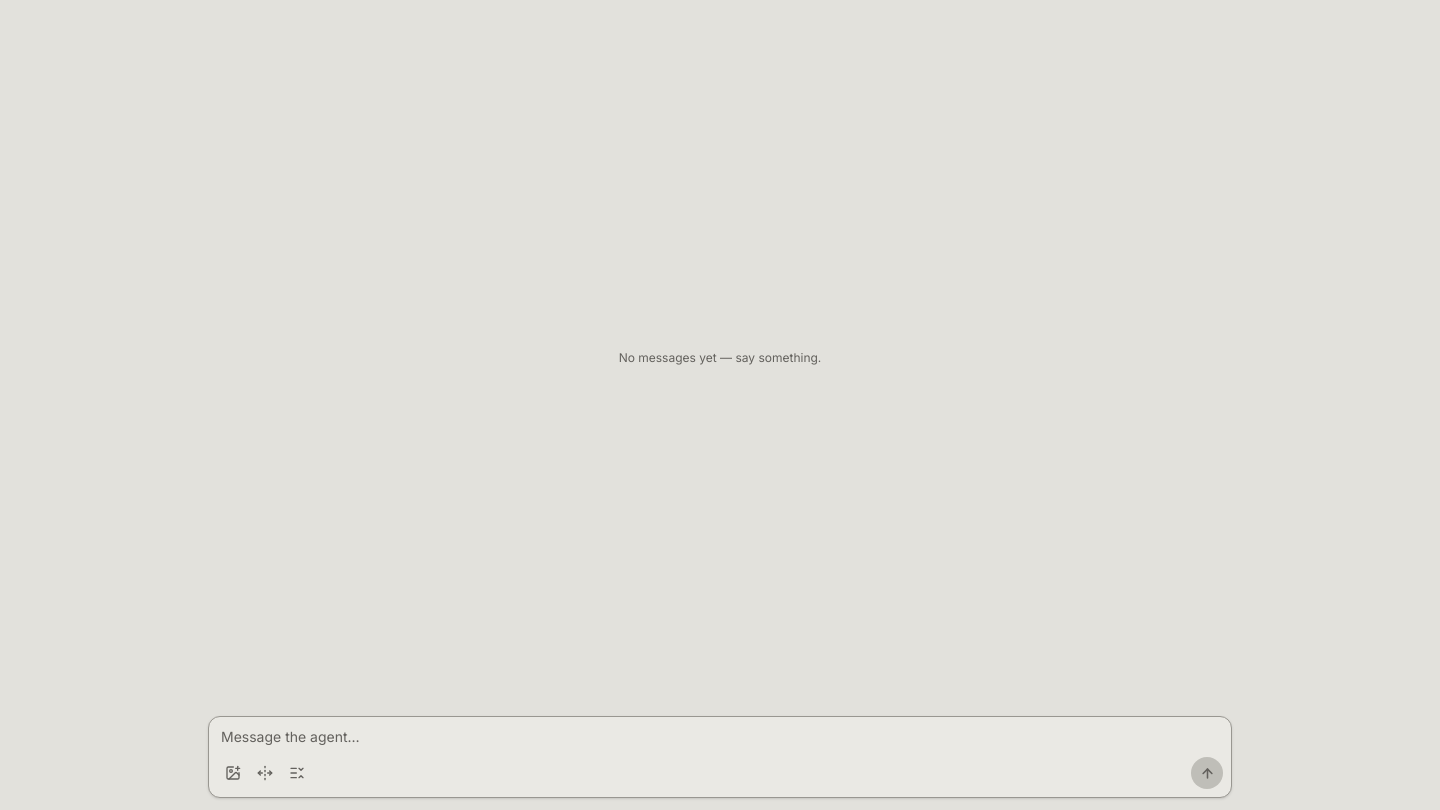
Test: WorkspaceChat composer menu › completes a command that takes an argument instead of sending it, and Tab always completes
Type "/comp" into the text box at point(720, 737), box [209,717,1231,757]
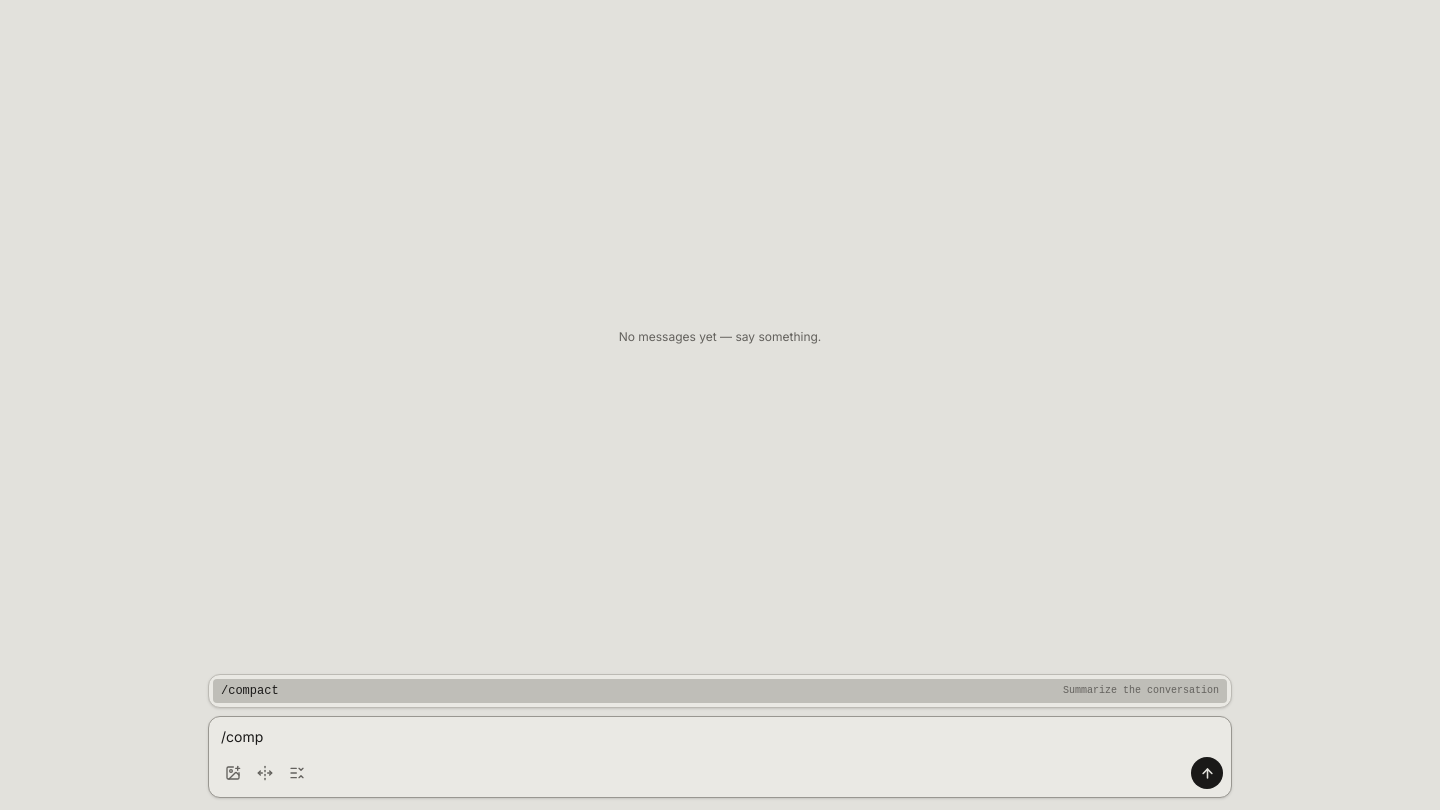
Press Enter in the text box, box [209,717,1231,757]
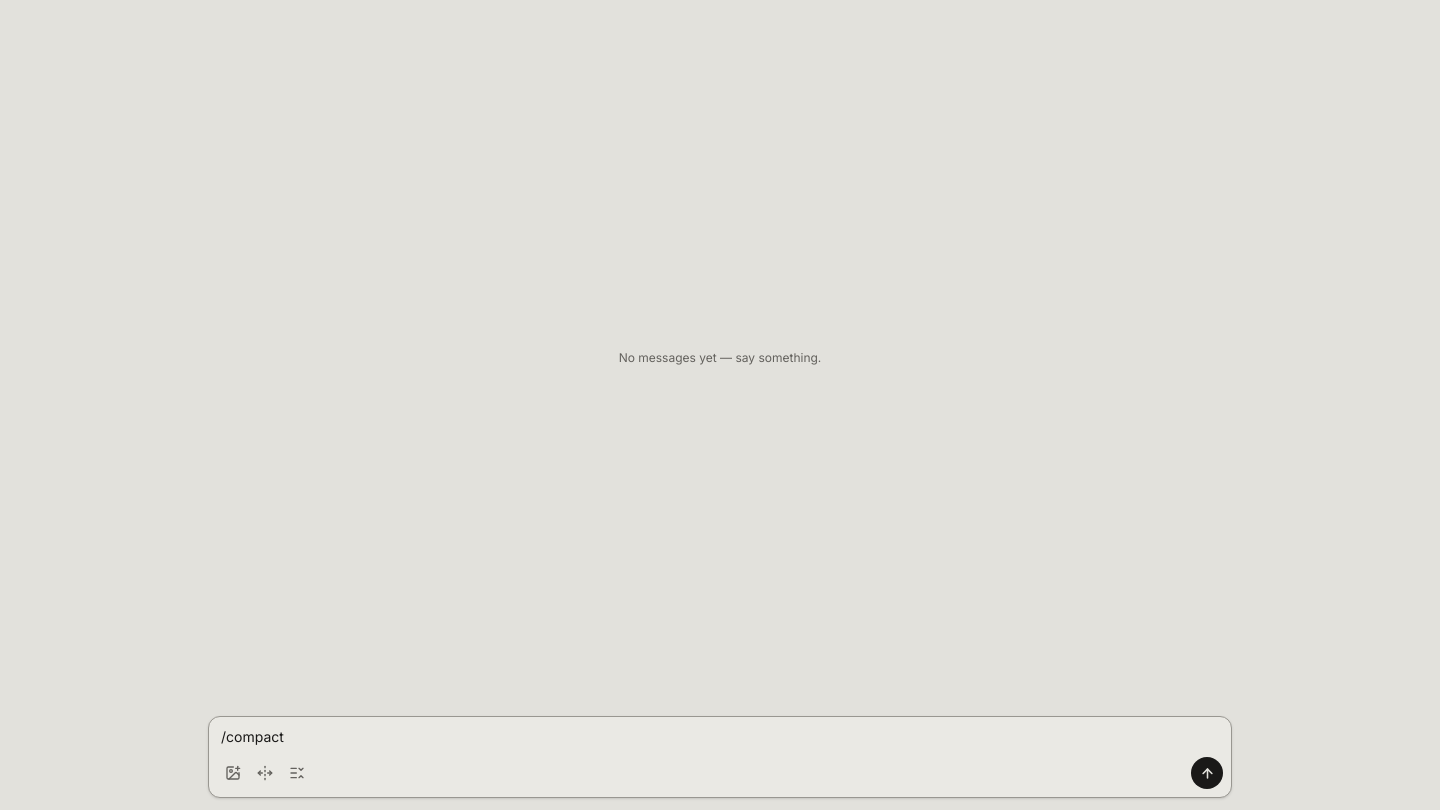
Check: the text box holds "/compact "
Replace the text in the text box with "/cont" at point(720, 737), box [209,717,1231,757]
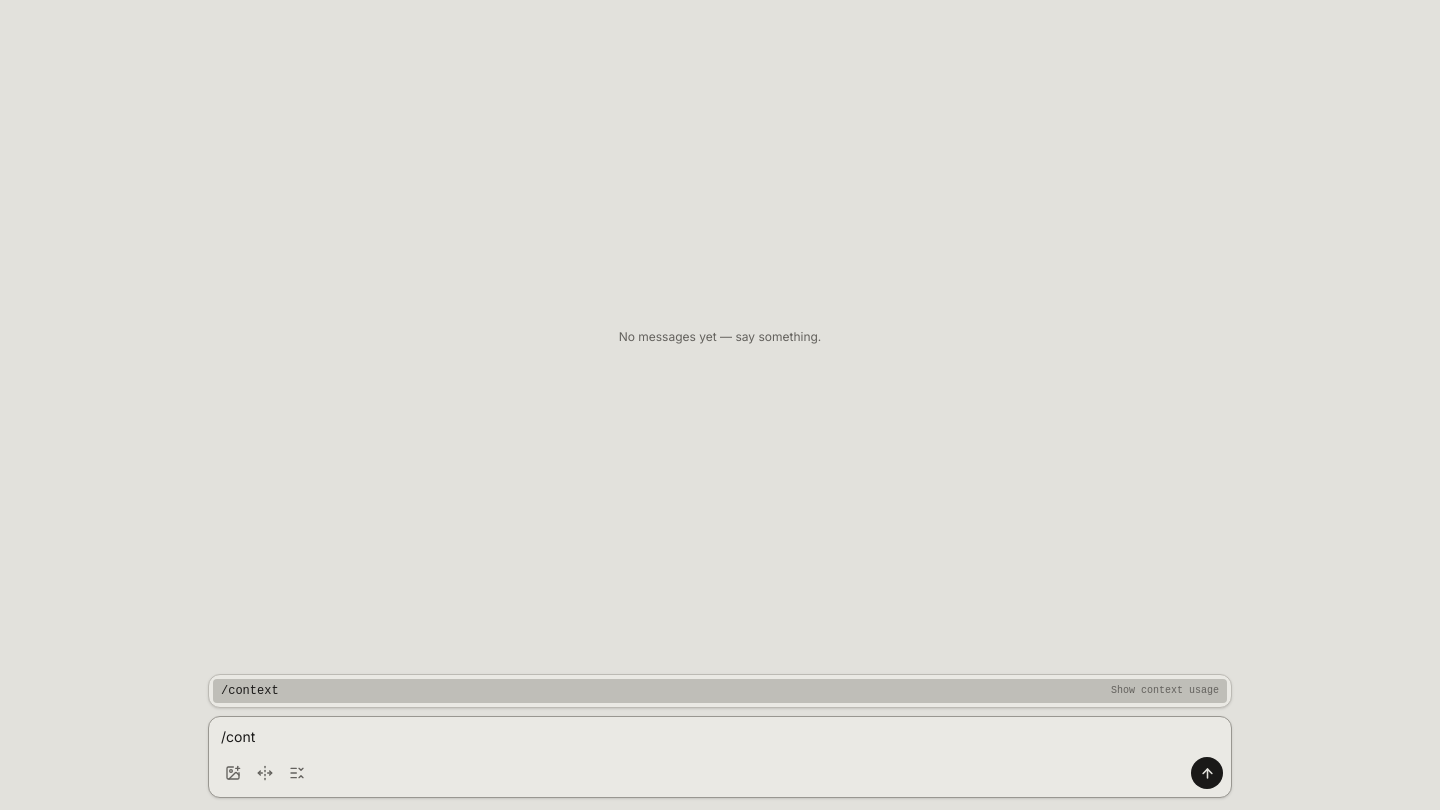
Press Tab in the text box, box [209,717,1231,757]
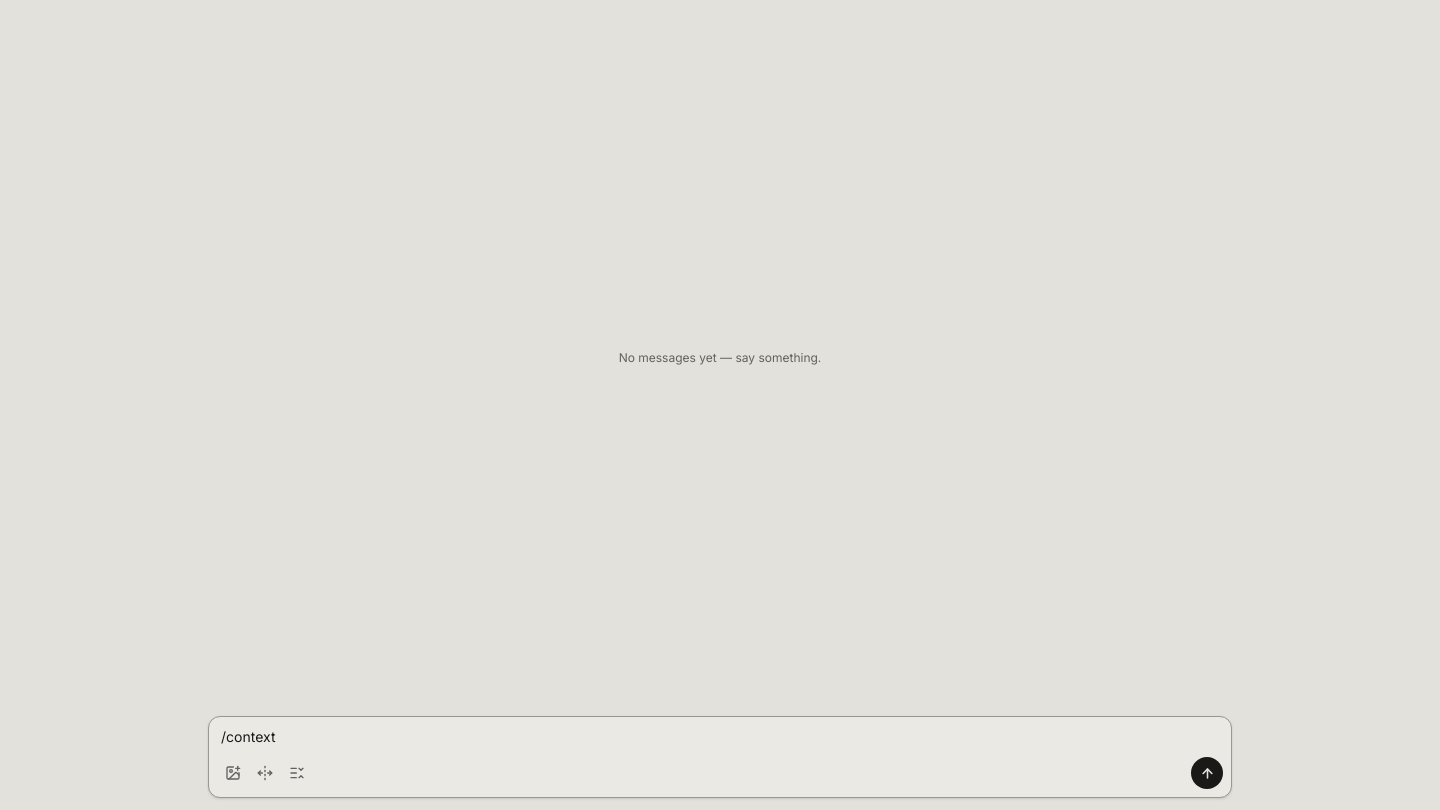
Check: the text box holds "/context ", box [209,717,1231,757]
